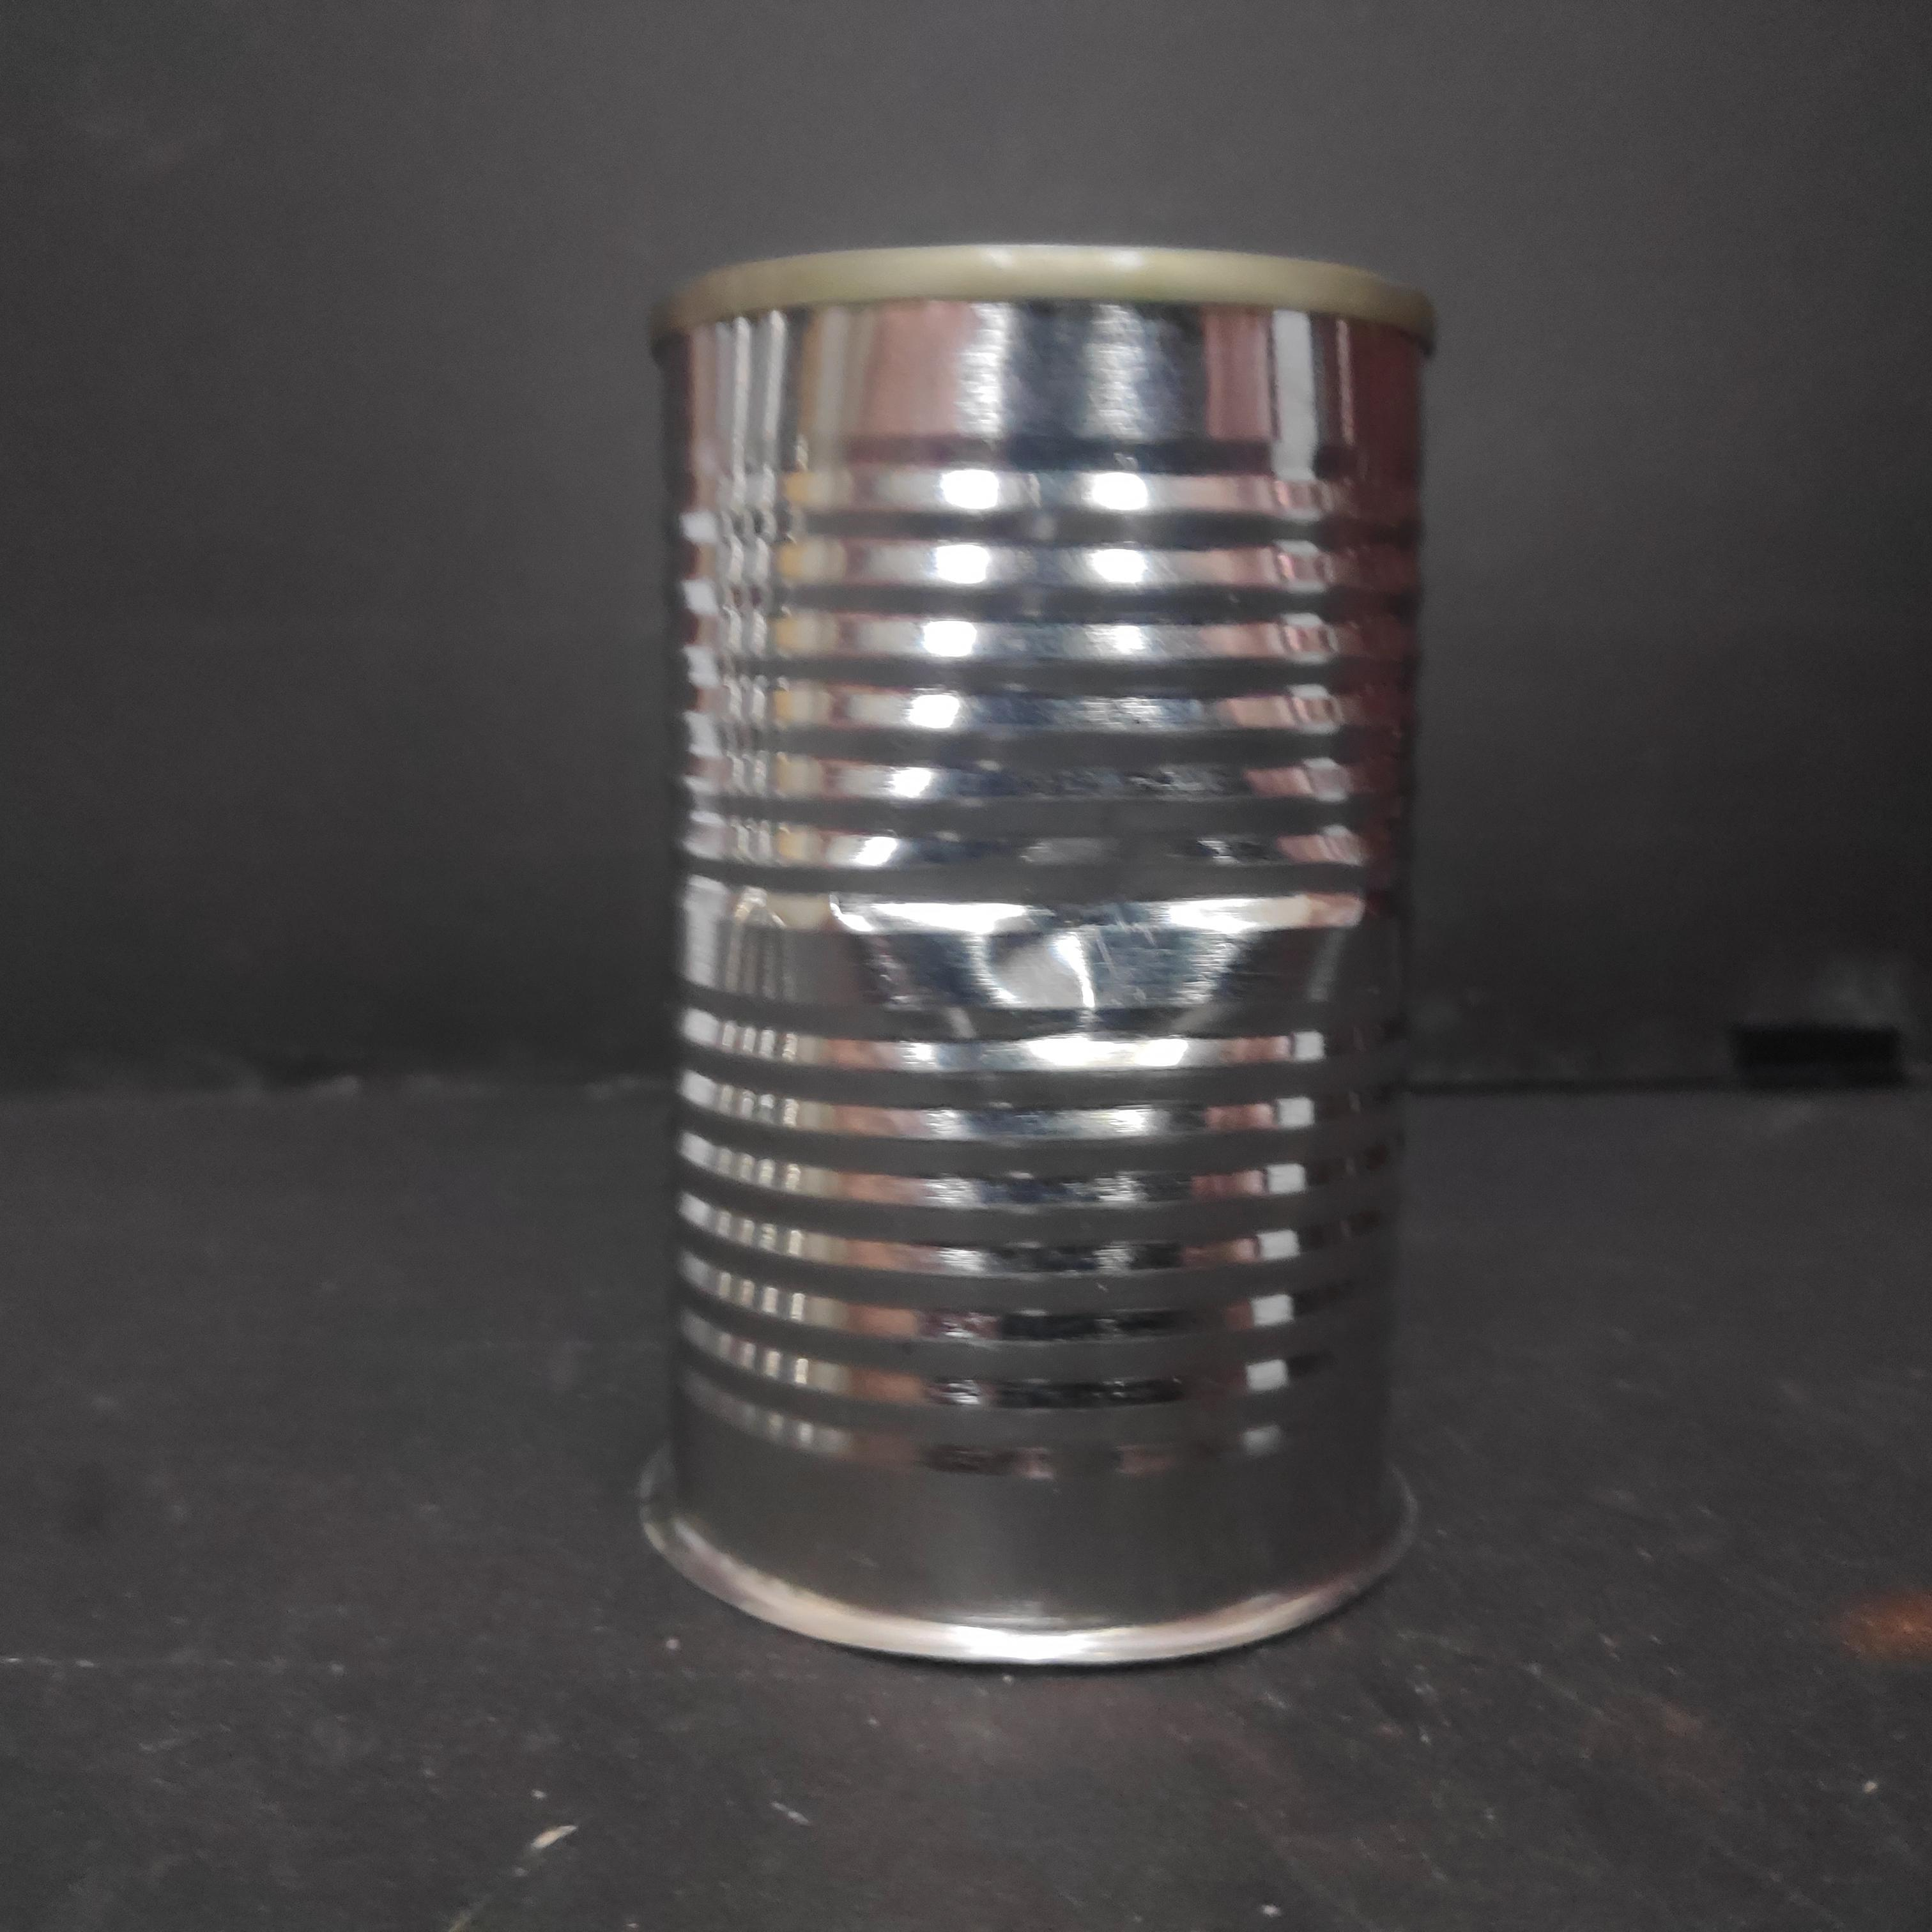Minor Defect: (640, 234, 1445, 1684)
